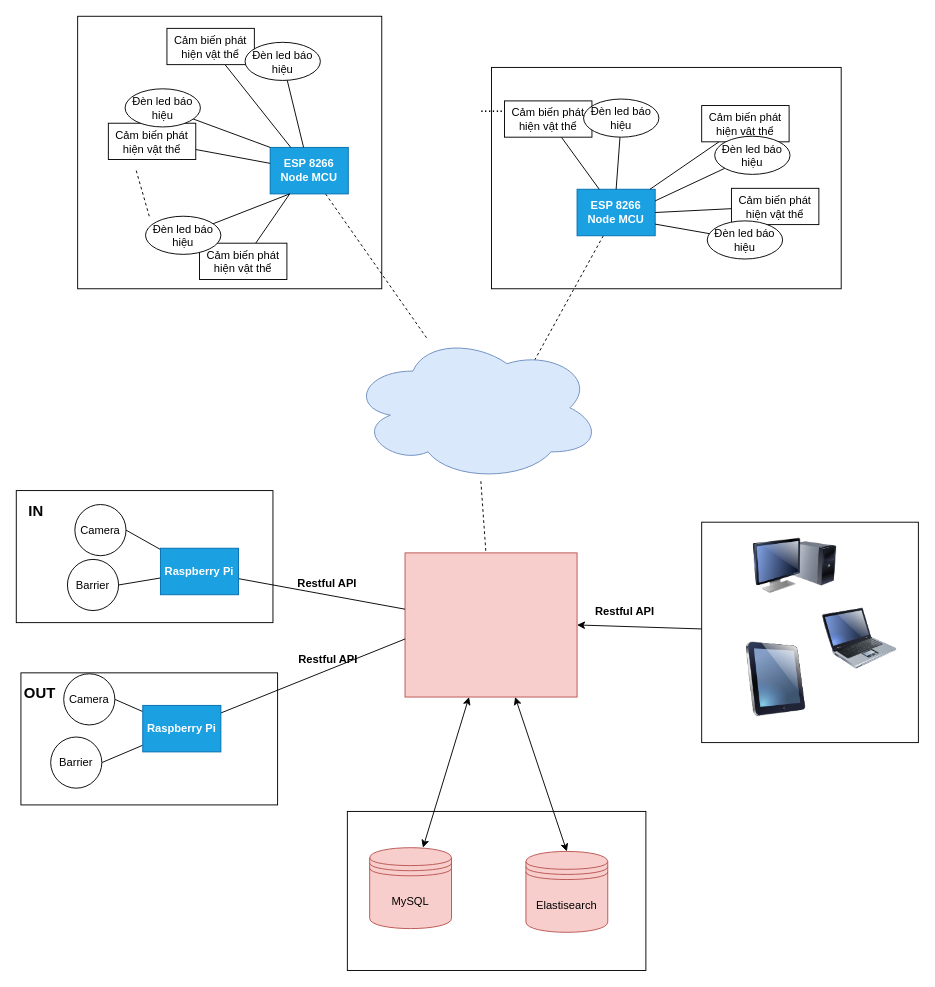
This 935x987 diagram has some shape labels left out. Here are the shapes that lost their labels. From the top down, the centre of each, then its label:
At (475,407): "MQTT Broker".
At (490,624): "Web Server".
